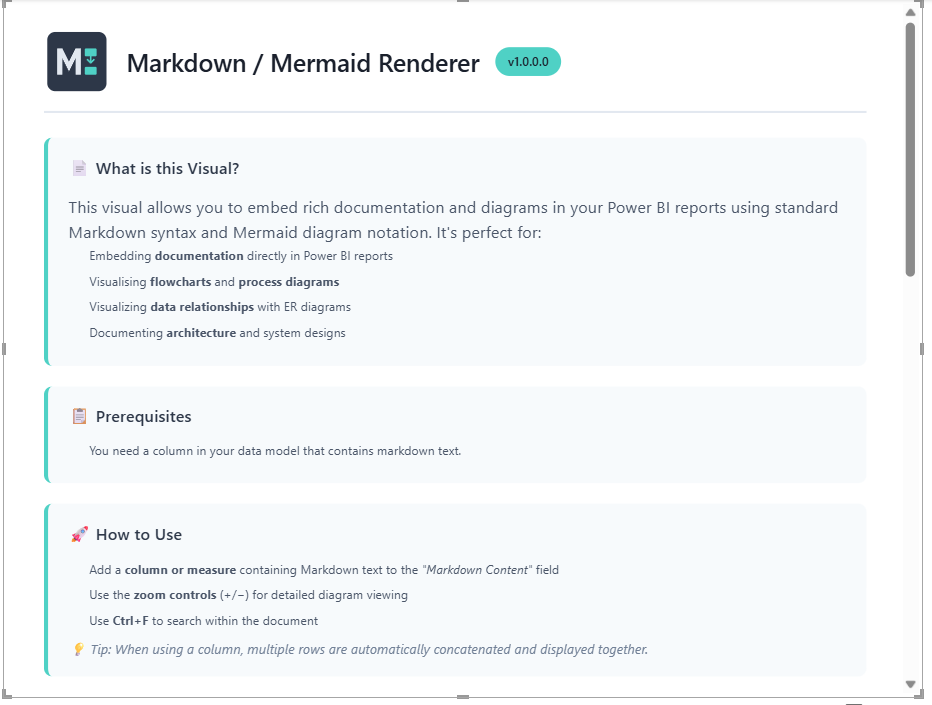

This screenshot's page, from the dashboard's own definition file:
{"tool":"powerbi","page":{"name":"Landing Page","canvas":[1280,720],"ordinal":0},"visuals":[{"type":"markdownMermaidRenderer","box":[9.7,0,1270.3,719.8],"z":0}]}

Visuals, with their boxes on the page's 1280x720 design canvas (x1, y1, x2, y2). These are canvas units, not pixel positions in the 932x705 screenshot, which may show the page scaled, cropped or inside an application window:
markdownMermaidRenderer: [10, 0, 1280, 720]
